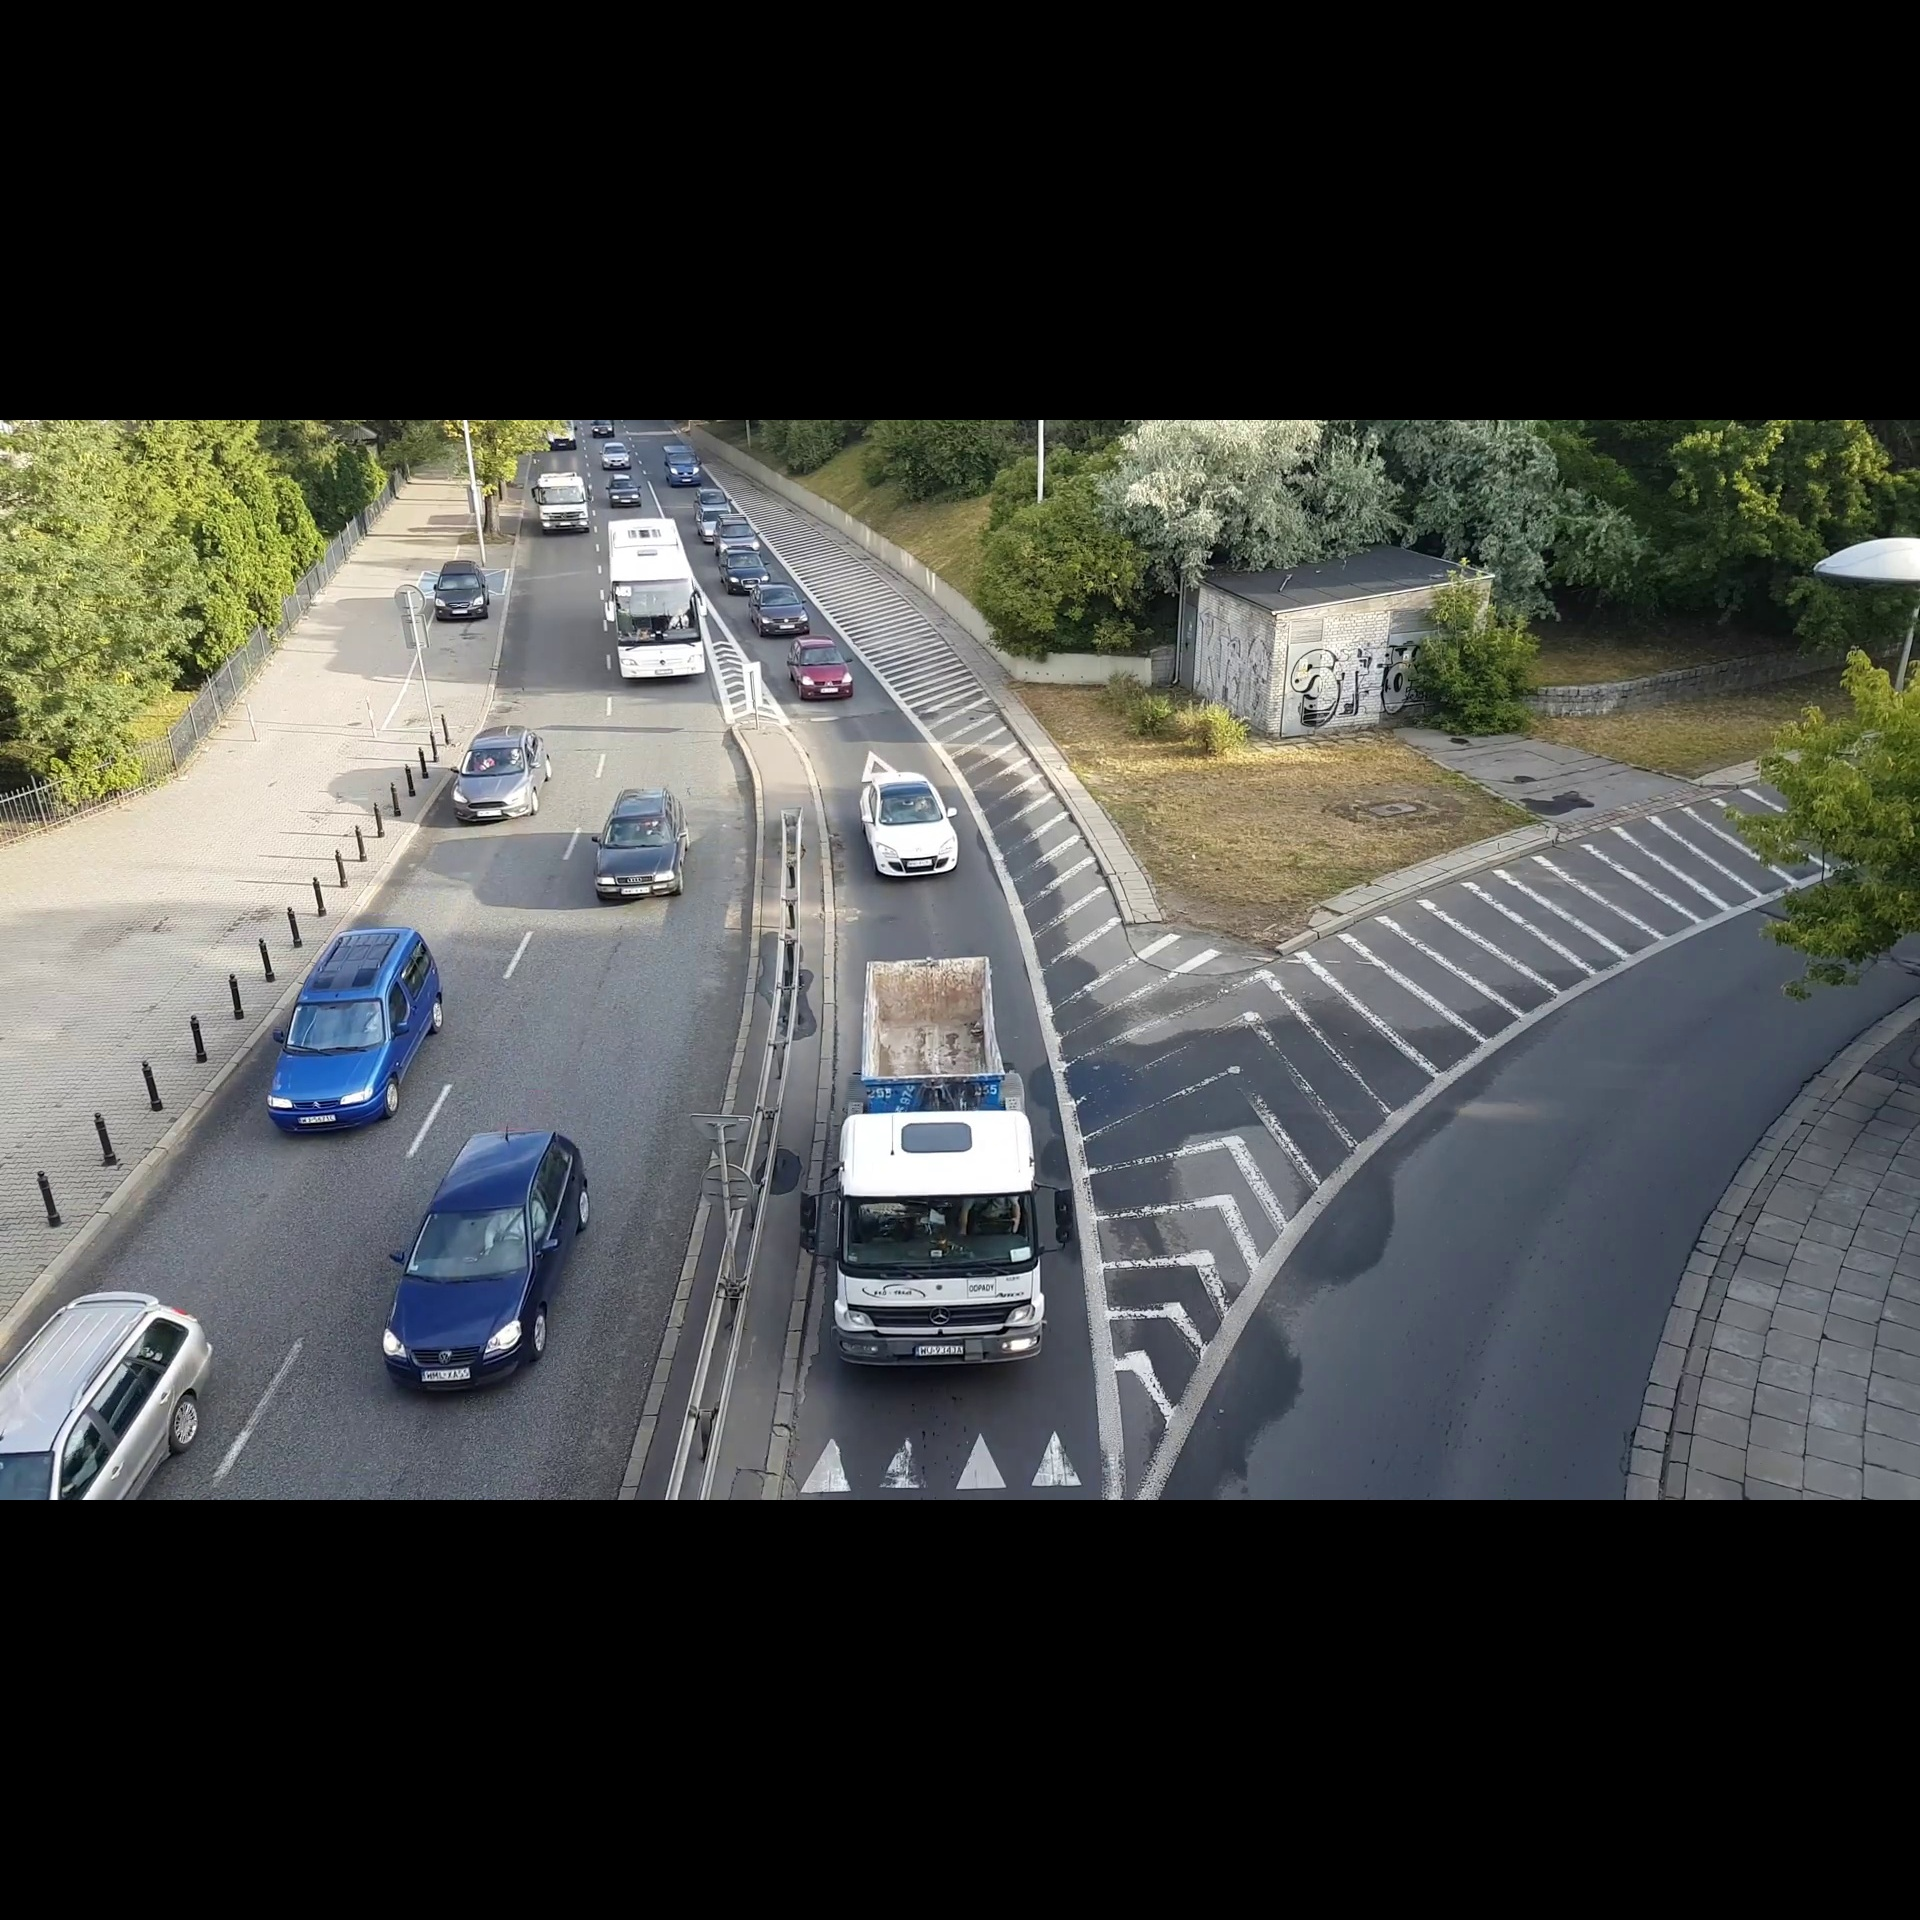vehicle: (788, 951, 1085, 1380), (375, 1124, 605, 1400), (2, 1276, 223, 1500), (260, 913, 452, 1143), (598, 510, 710, 693), (851, 765, 965, 890), (584, 781, 693, 907), (441, 717, 557, 830), (782, 629, 860, 707), (427, 554, 492, 628), (740, 577, 811, 638), (529, 469, 593, 535), (717, 547, 772, 587), (663, 443, 703, 489), (714, 512, 758, 550), (605, 471, 644, 508), (547, 420, 578, 452), (693, 487, 731, 512), (600, 441, 631, 471), (591, 420, 617, 440)
